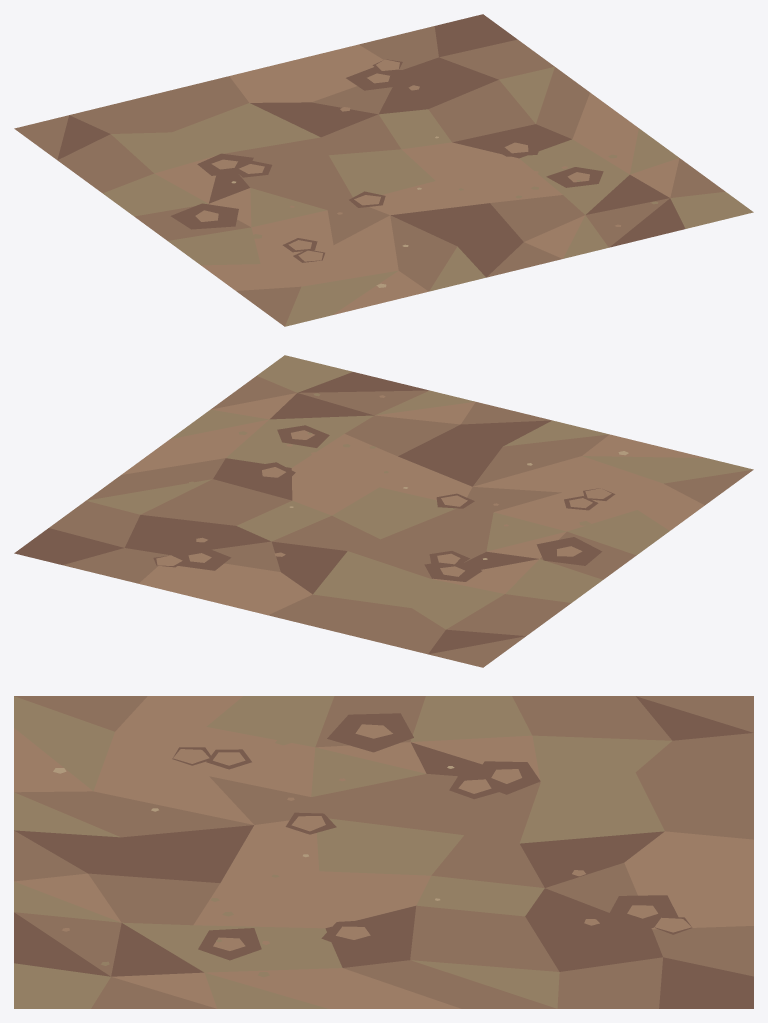
Rendered from 11_Sand_DryClay.fbx.
The picture shows the model from 3 angles, top to bottom: view 1: azimuth 30°, elevation 25°; view 2: azimuth 150°, elevation 25°; view 3: azimuth 270°, elevation 25°; orthographic projection. The views are drawn at different scales.
Parts seen in each view (by area): view 1: 11_Sand_DryClay; view 2: 11_Sand_DryClay; view 3: 11_Sand_DryClay.
Boxes of the visible parts, bbox=[...] form: 11_Sand_DryClay: bbox=[14, 14, 753, 326]; 11_Sand_DryClay: bbox=[14, 355, 753, 667]; 11_Sand_DryClay: bbox=[14, 696, 753, 1008].
Size of the model in its own units: 800 by 1.6 by 800.
Materials: 1 (1 with a texture image).
